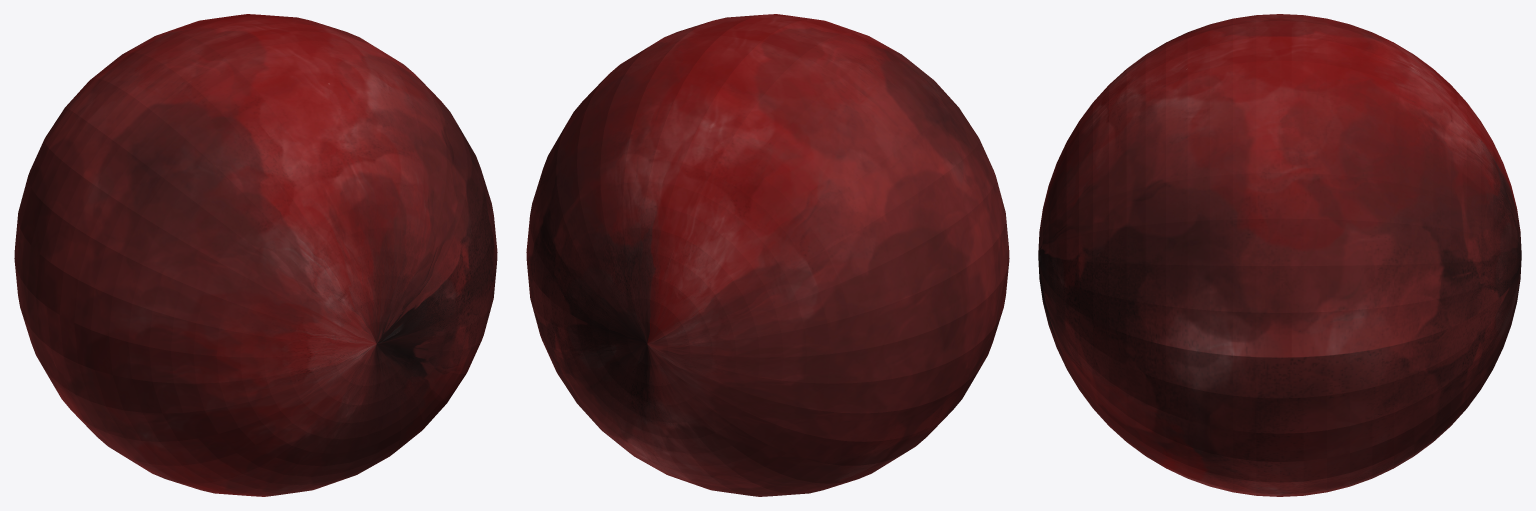
Rendered from necroticTumor.dae.
3 renders of one model, left to right at view 1: azimuth 30°, elevation 25°; view 2: azimuth 150°, elevation 25°; view 3: azimuth 270°, elevation 25°, orthographic.
Visible parts, largest first — view 1: cell_mate; view 2: cell_mate; view 3: cell_mate.
Part boxes in pixels (bbox=[...]): cell_mate: bbox=[14, 14, 497, 496]; cell_mate: bbox=[526, 14, 1009, 496]; cell_mate: bbox=[1038, 14, 1521, 496].
Bounding box in the file's own units: 2 × 2 × 2.
Materials: 1 (1 with a texture image).
